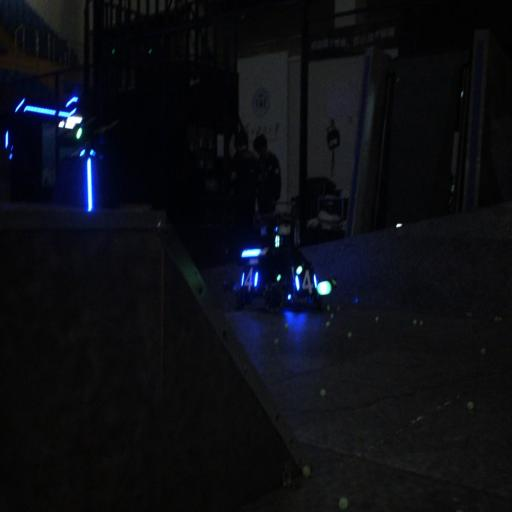target: (287, 262, 320, 301), (235, 260, 263, 296)
